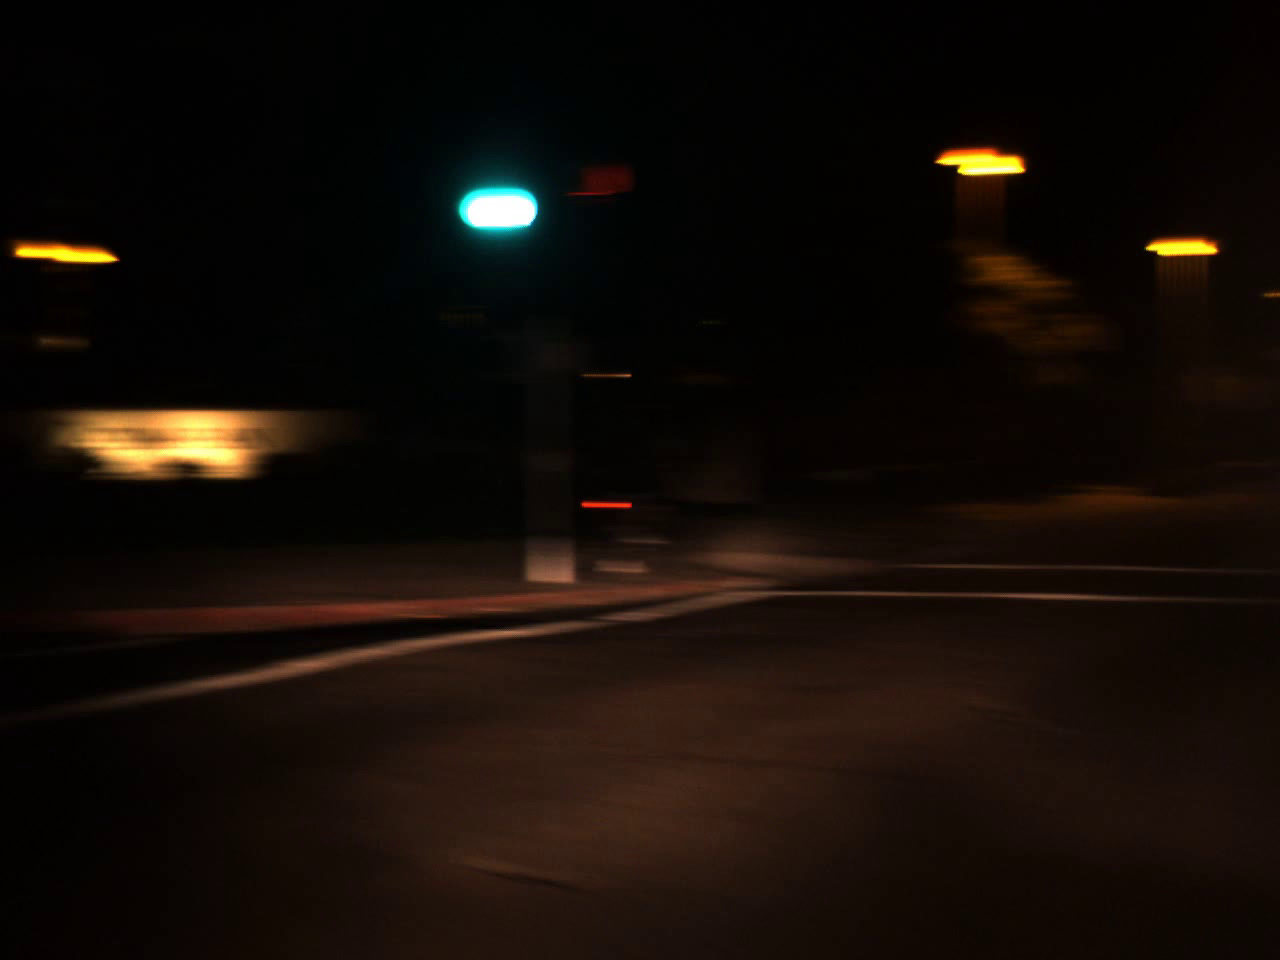go: (441, 126, 550, 249)
